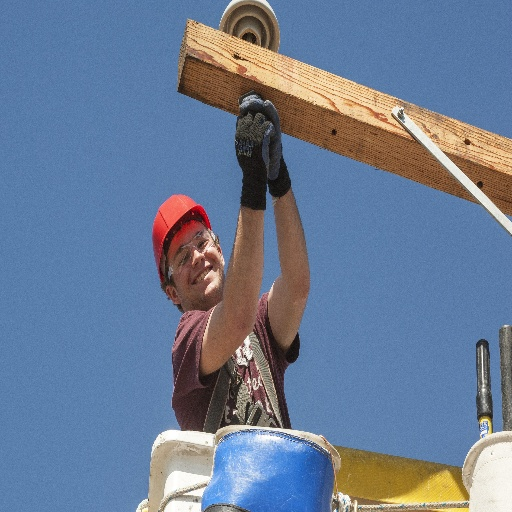hand: (234, 110, 276, 189), (260, 109, 293, 183)
